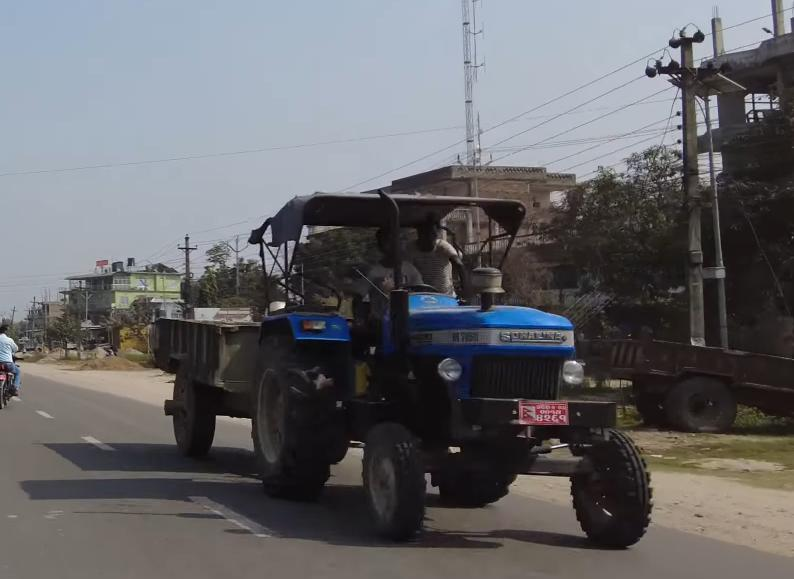bike: (0, 349, 24, 415)
tractor: (250, 186, 660, 551)
